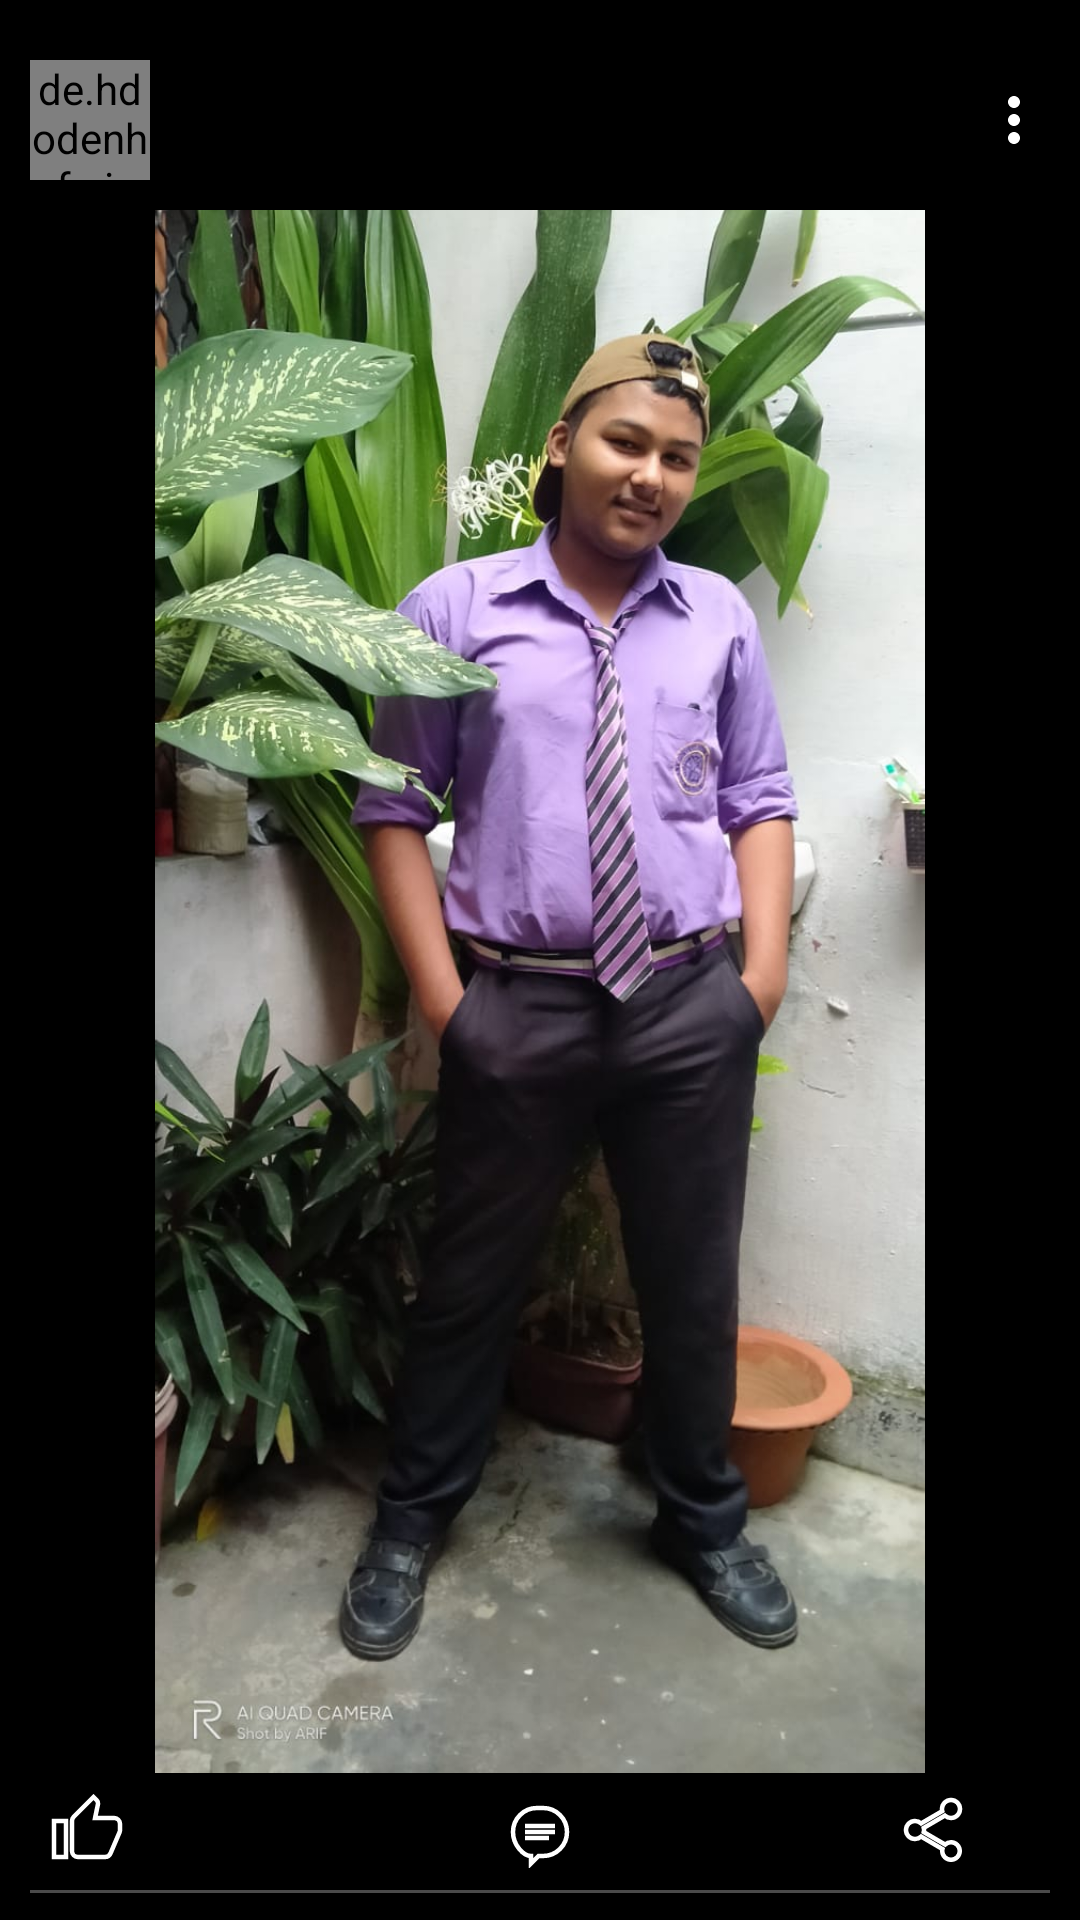

Named icons in this screenshot (1080px x 1920px) and their centers, [x,y]:
comment: [540,1836]
like: [87,1827]
more: [1014,120]
share: [933,1829]
